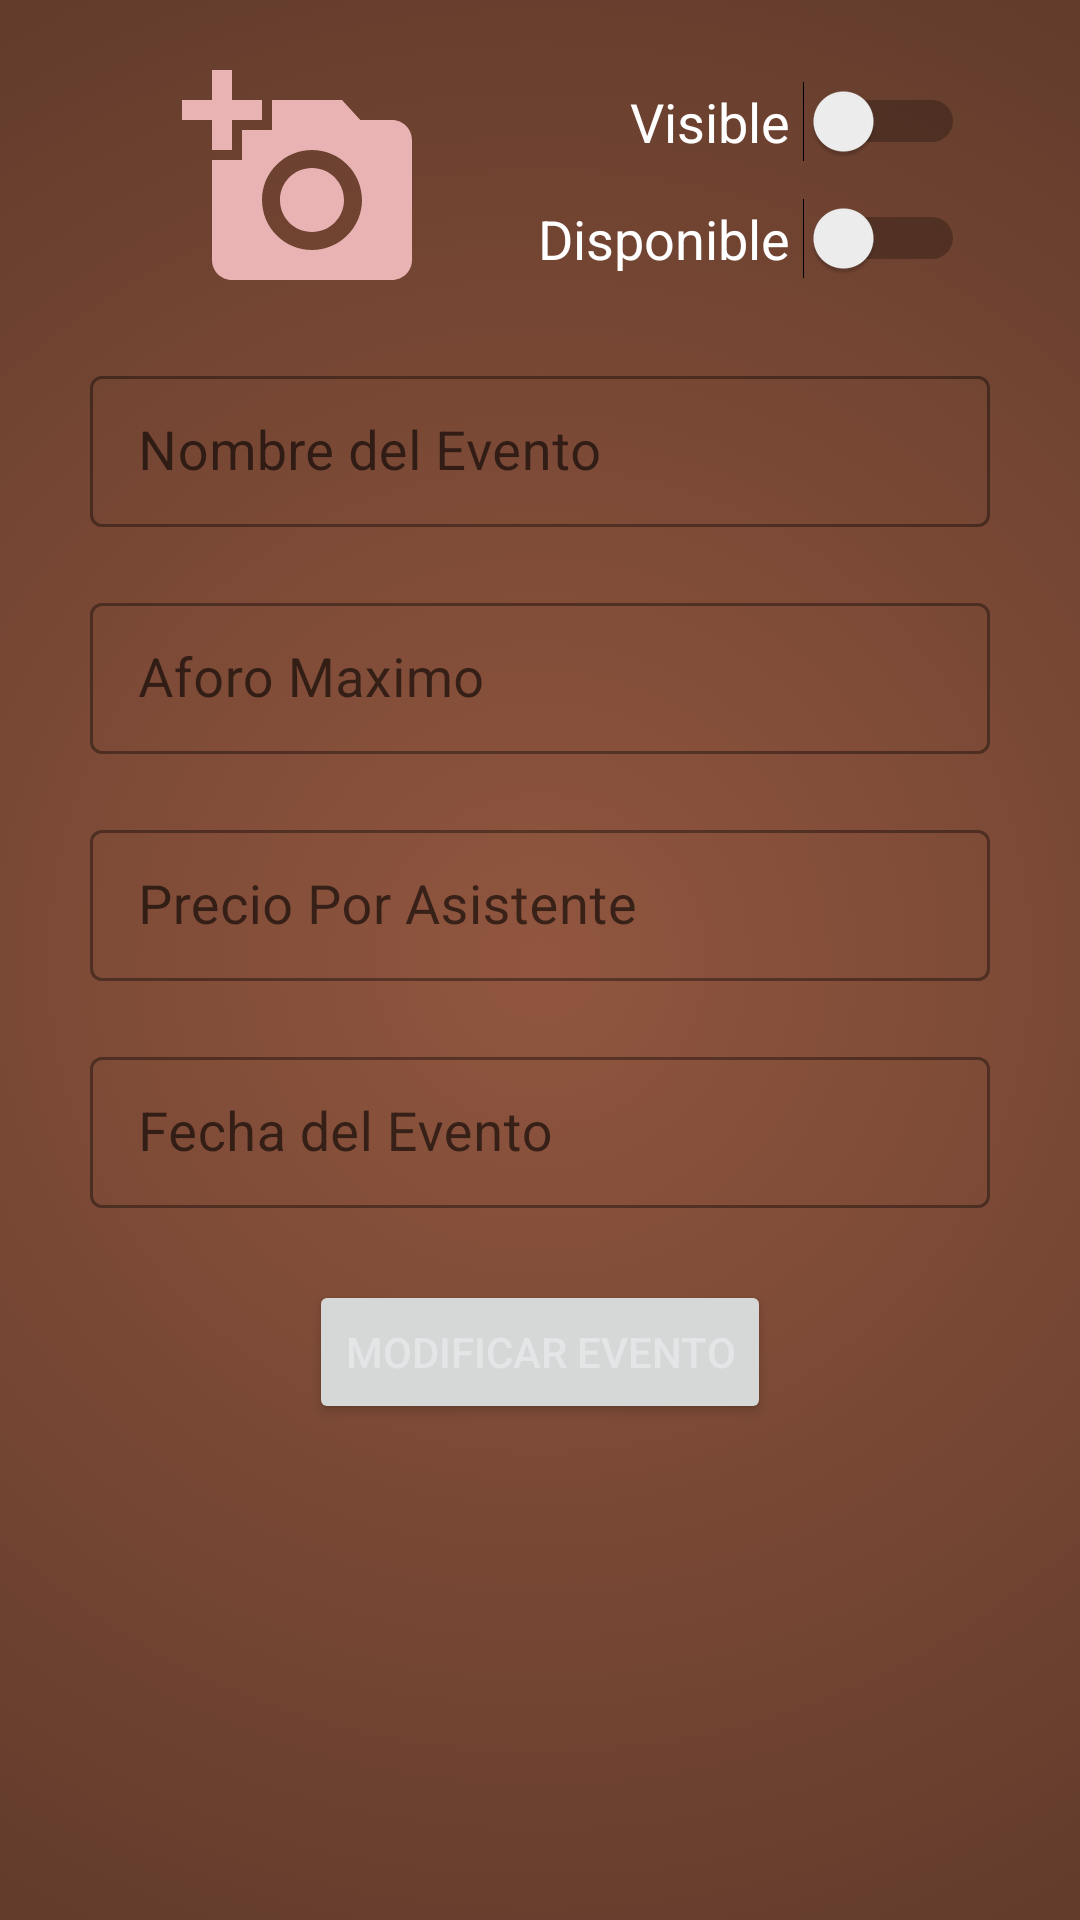

Point at icon controls on the screen. Image size 1080×1920, points as [x,y].
add photo: [297,175]
